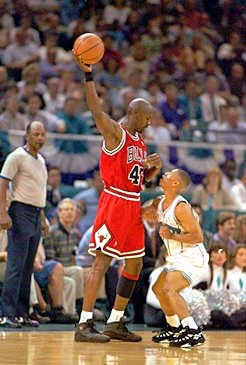basketball: (73, 31, 104, 65)
